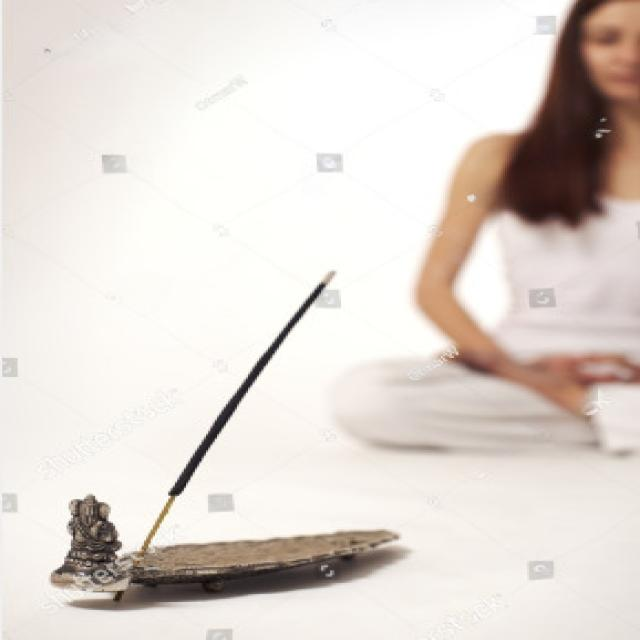Agarbatti: (142, 271, 343, 545)
